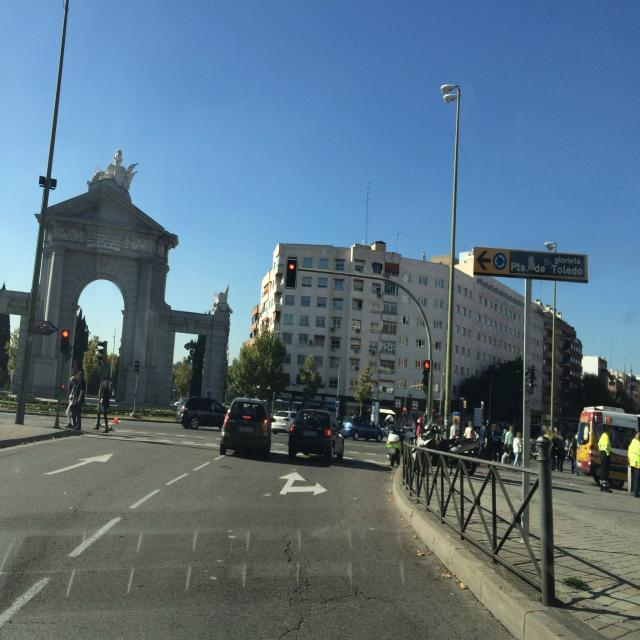bike: (387, 428, 402, 468)
car: (578, 406, 640, 482), (220, 396, 272, 457), (288, 408, 344, 463), (180, 396, 229, 430), (340, 416, 384, 442), (271, 410, 296, 434)
